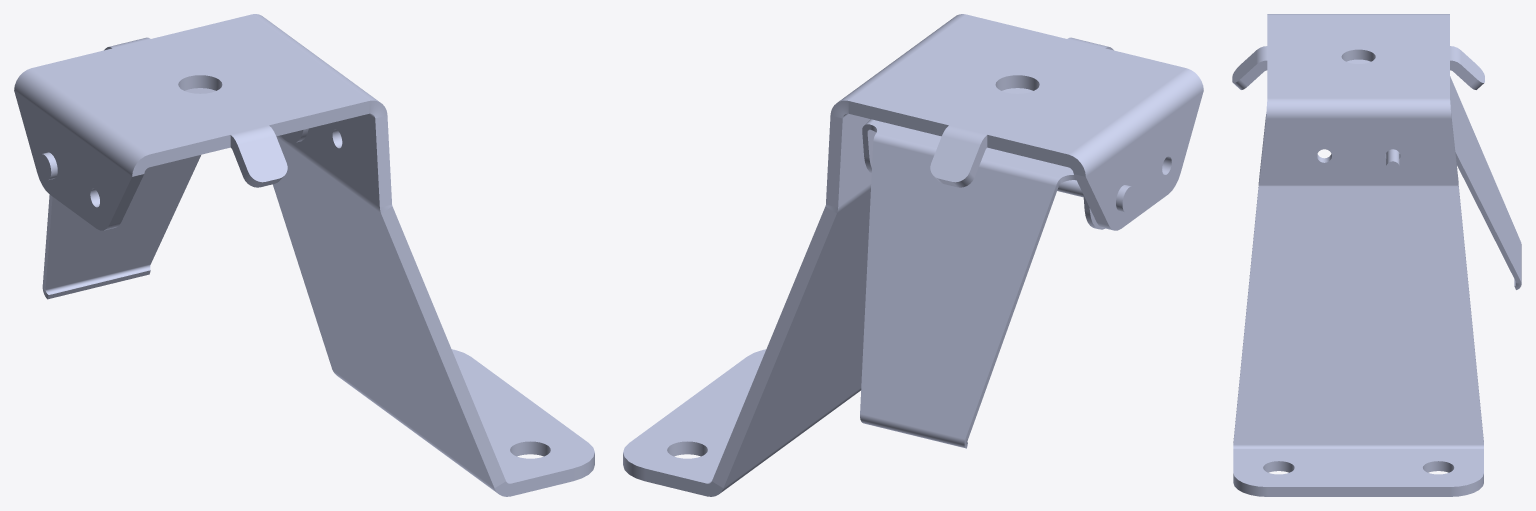
File: Ball Gate Assembly (RT A-8096-R).fbx
The picture shows the model from 3 angles, left to right: view 1: azimuth 30°, elevation 25°; view 2: azimuth 150°, elevation 25°; view 3: azimuth 270°, elevation 25°; orthographic projection. The views are drawn at different scales.
Parts seen in each view (by area): view 1: Gate BKT 1, Gate Flap; view 2: Gate BKT 1, Gate Flap, Gate Pin; view 3: Gate BKT 1, Gate Flap.
Boxes of the visible parts, bbox=[...] form: Gate BKT 1: bbox=[14, 14, 594, 496]; Gate Flap: bbox=[42, 88, 308, 299]; Gate BKT 1: bbox=[623, 14, 1203, 496]; Gate Flap: bbox=[860, 88, 1104, 448]; Gate Pin: bbox=[1057, 180, 1135, 212]; Gate BKT 1: bbox=[1232, 14, 1484, 496]; Gate Flap: bbox=[1346, 59, 1521, 289].
Size of the model in its own units: 5.76 by 4.85 by 4.03.
